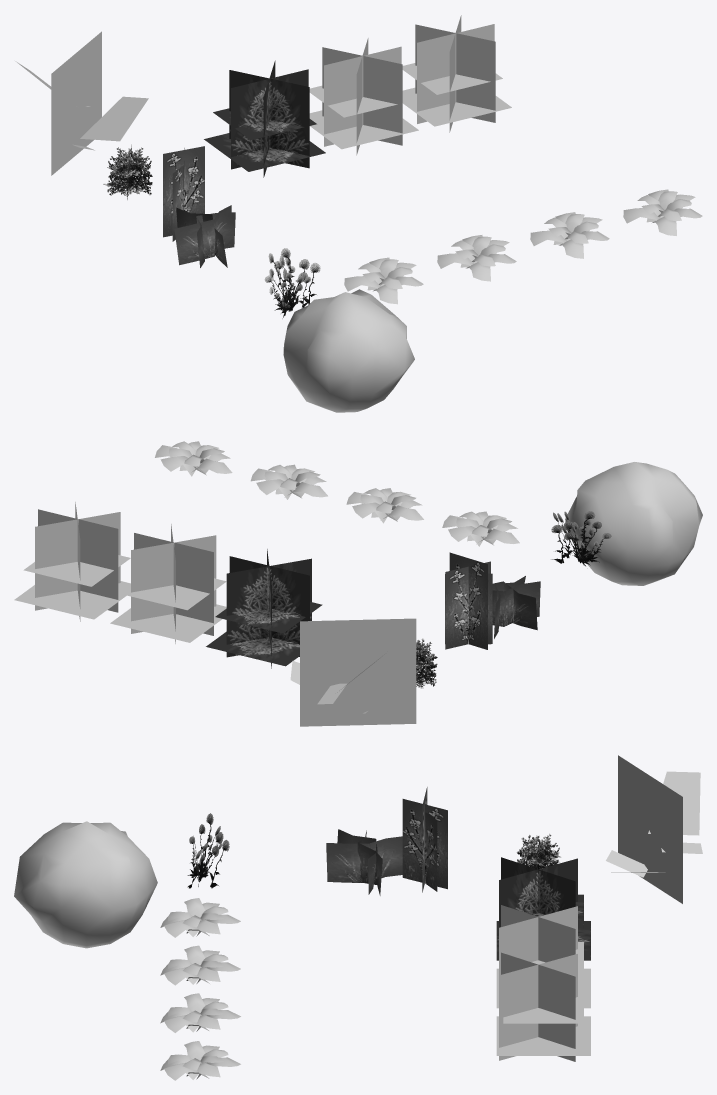
File: enverionment.fbx
The picture shows the model from 3 angles, top to bottom: view 1: azimuth 30°, elevation 25°; view 2: azimuth 150°, elevation 25°; view 3: azimuth 270°, elevation 25°; orthographic projection. The views are drawn at different scales.
Parts seen in each view (by area): view 1: pCube1, polySurface12, polySurface9, polySurface11, polySurface5, polySurface3, polySurface2, polySurface13, polySurface1, polySurface14, polySurface15, polySurface10 (+1 smaller); view 2: polySurface5, pCube1, polySurface9, polySurface11, polySurface12, polySurface3, polySurface2, polySurface13, polySurface15, polySurface1, polySurface14, pPlane27 (+1 smaller); view 3: pCube1, polySurface5, polySurface9, polySurface11, polySurface12, polySurface3, polySurface2, polySurface13, polySurface15, polySurface14, polySurface1, polySurface10 (+1 smaller).
Boxes of the visible parts, box(x1,y1,x2,y2) form: pCube1: box(283, 289, 414, 412); polySurface12: box(204, 60, 325, 177); polySurface9: box(402, 15, 511, 132); polySurface11: box(309, 38, 418, 155); polySurface5: box(15, 31, 148, 175); polySurface3: box(163, 146, 204, 241); polySurface2: box(174, 205, 235, 267); polySurface13: box(437, 235, 516, 281); polySurface1: box(344, 257, 423, 304); polySurface14: box(530, 212, 609, 258); polySurface15: box(623, 189, 702, 235); polySurface10: box(103, 144, 152, 199); polySurface5: box(290, 618, 416, 726); pCube1: box(565, 462, 702, 585); polySurface9: box(14, 502, 130, 621); polySurface11: box(110, 524, 226, 643); polySurface12: box(206, 549, 322, 668); polySurface3: box(445, 552, 492, 649); polySurface2: box(492, 576, 540, 638); polySurface13: box(346, 488, 423, 523); polySurface15: box(155, 441, 232, 476); polySurface1: box(442, 511, 519, 546); polySurface14: box(250, 464, 327, 499); pPlane27: box(551, 511, 611, 563); pCube1: box(14, 821, 157, 948); polySurface5: box(606, 755, 702, 903); polySurface9: box(496, 952, 590, 1061); polySurface11: box(496, 905, 590, 1008); polySurface12: box(496, 857, 590, 960); polySurface3: box(402, 787, 447, 892); polySurface2: box(326, 829, 402, 895); polySurface13: box(160, 945, 240, 985); polySurface15: box(160, 1041, 240, 1080); polySurface14: box(160, 993, 240, 1032); polySurface1: box(160, 898, 240, 937); polySurface10: box(517, 833, 561, 869).
Bounding box in the file's own units: 9.79 × 3.24 × 12.22.
